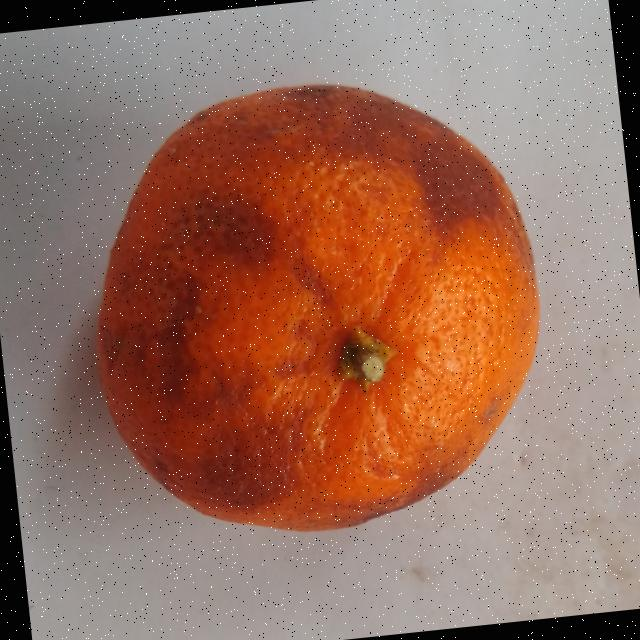overripe: (67, 56, 567, 561)
